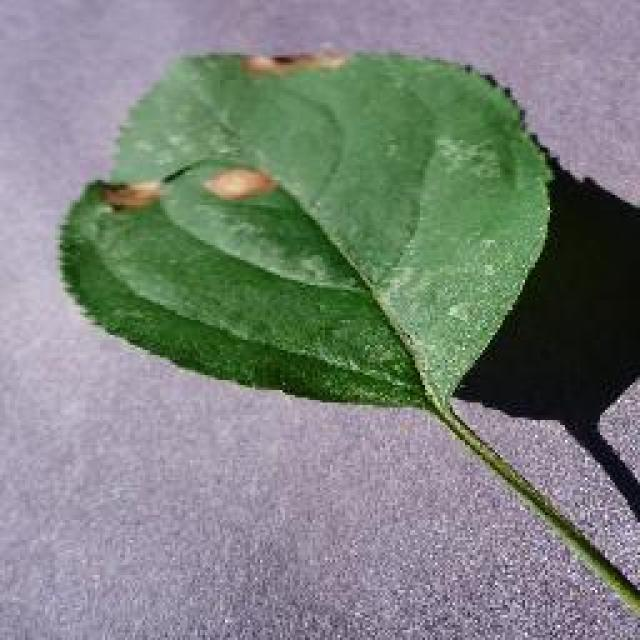Apple___Black_rot: (42, 30, 383, 345)
